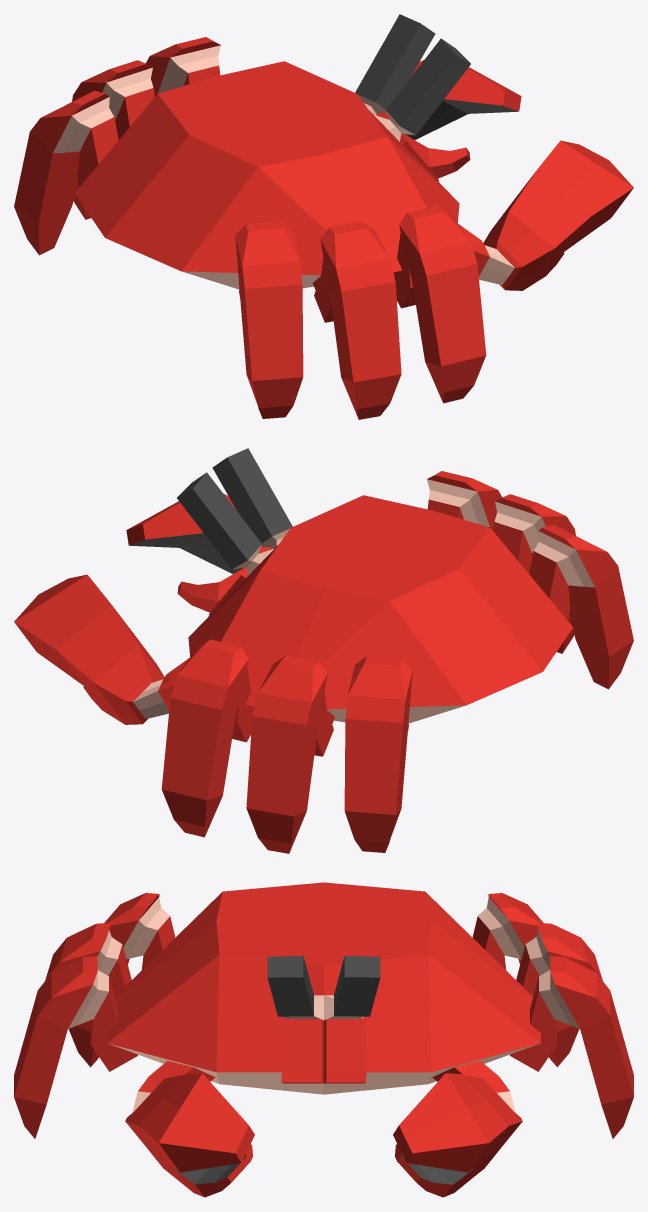
The model's file is CrabHorde.fbx.
3 renders of one model, top to bottom at view 1: azimuth 30°, elevation 25°; view 2: azimuth 150°, elevation 25°; view 3: azimuth 270°, elevation 25°, orthographic.
Parts seen in each view (by area): view 1: CrabBody, CrabHands; view 2: CrabBody, CrabHands; view 3: CrabBody, CrabHands.
Part boxes in pixels (<box>): CrabBody: <box>14,14,486,419</box>; CrabHands: <box>376,60,633,290</box>; CrabBody: <box>161,448,633,853</box>; CrabHands: <box>14,494,271,724</box>; CrabBody: <box>14,882,633,1138</box>; CrabHands: <box>125,1061,522,1197</box>.
Size of the model in its own units: 74.07 by 36.61 by 85.61.
